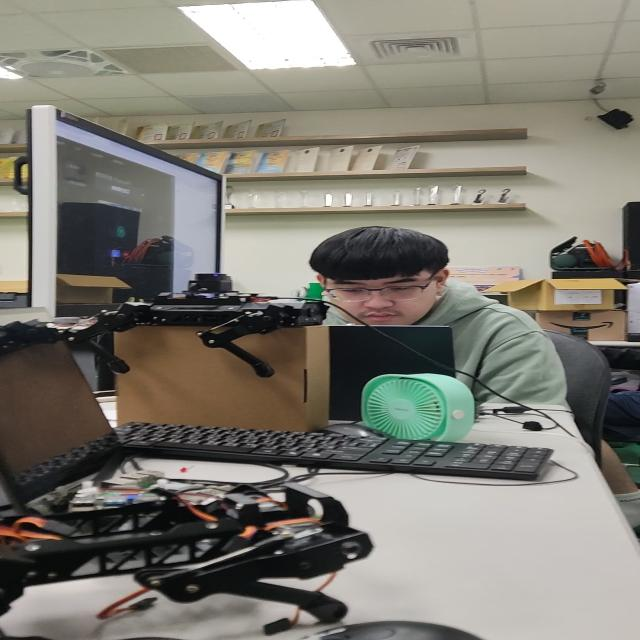person: (292, 214, 573, 416)
